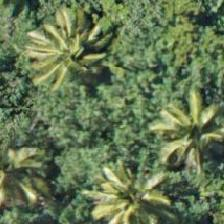coconut_tree: (19, 0, 109, 77), (148, 99, 223, 189), (86, 149, 176, 223), (0, 124, 63, 214)
